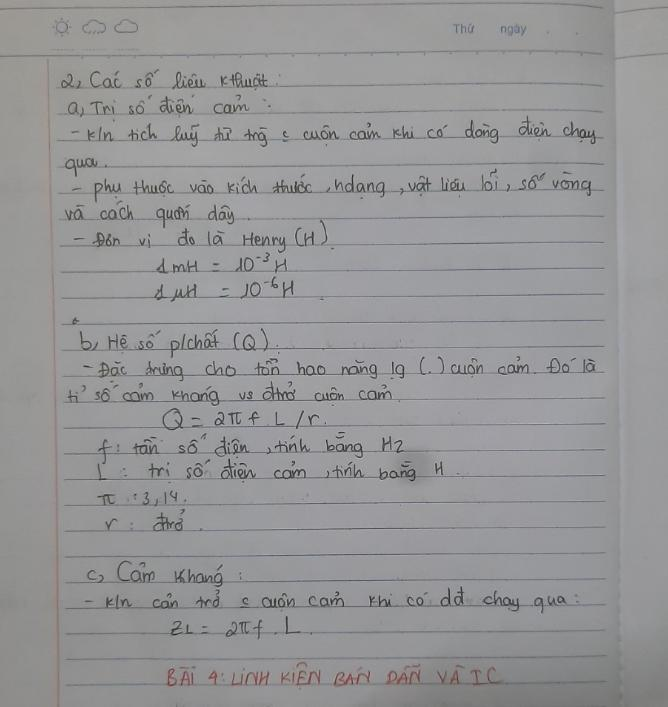text: (69, 166, 595, 206), (68, 111, 600, 147), (79, 349, 600, 385), (82, 583, 583, 615), (95, 429, 408, 467), (164, 660, 506, 691), (94, 456, 446, 484), (73, 216, 337, 253), (65, 381, 403, 408), (75, 322, 271, 360), (62, 197, 252, 233), (58, 67, 285, 94), (67, 92, 273, 121), (81, 558, 244, 590), (160, 405, 331, 434), (167, 612, 315, 644), (152, 273, 297, 304), (155, 249, 291, 279), (101, 507, 190, 535), (96, 487, 189, 510), (62, 154, 110, 179), (497, 20, 530, 39), (449, 21, 476, 37)
